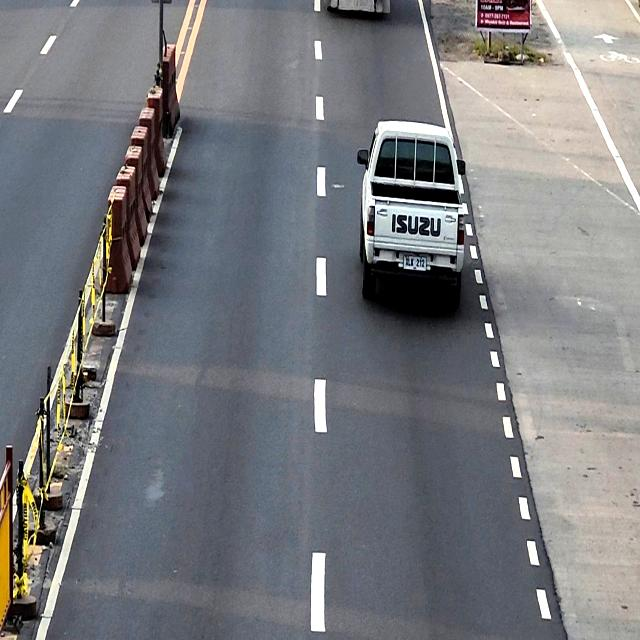Car: (358, 119, 466, 312)
License-Plate: (403, 257, 426, 272)
